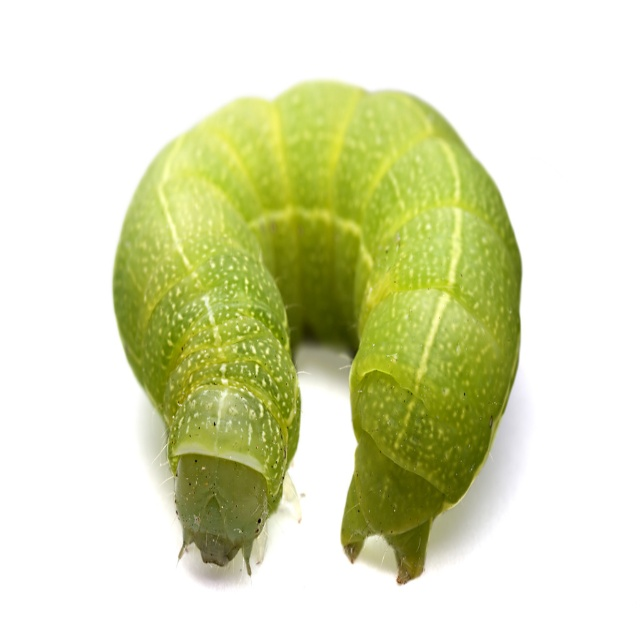Caterpillar: (113, 76, 521, 582)
